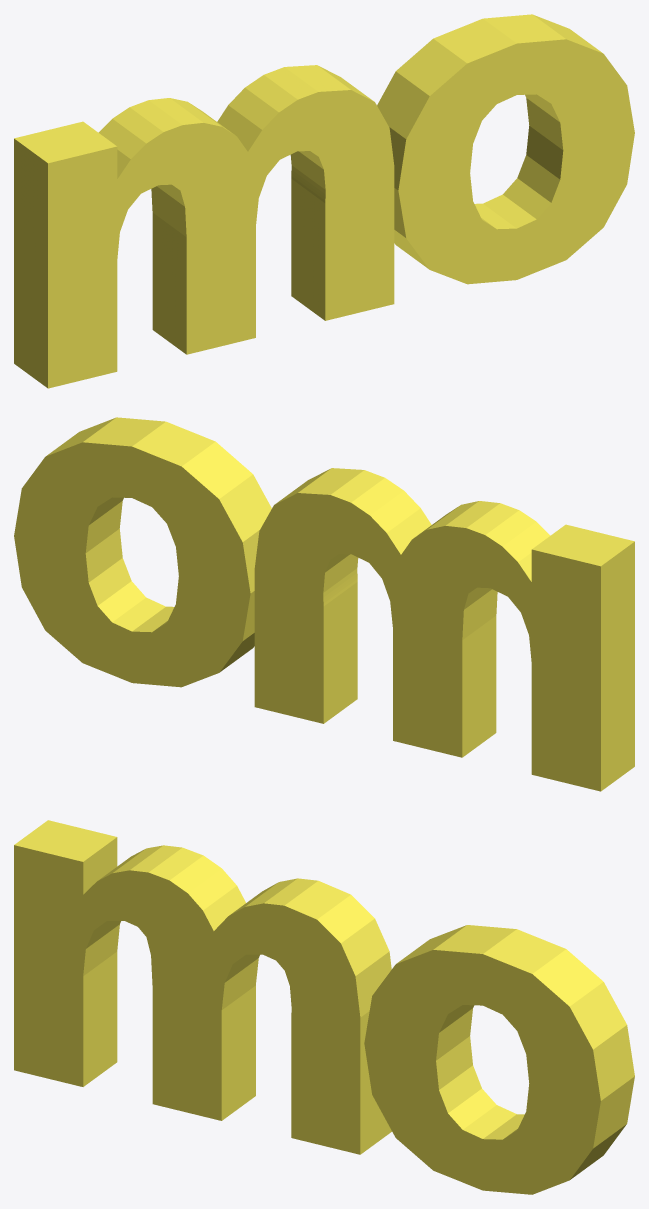
File: suku_kecil_mo.glb
3 renders of one model, top to bottom at view 1: azimuth 30°, elevation 25°; view 2: azimuth 150°, elevation 25°; view 3: azimuth 330°, elevation 25°, orthographic.
Visible parts, largest first — view 1: geometry_0; view 2: geometry_0; view 3: geometry_0.
Boxes of the visible parts, x1,y1,x2,y2 form: geometry_0: (14, 14, 634, 388); geometry_0: (14, 417, 634, 791); geometry_0: (14, 820, 634, 1194).
Bounding box in the file's own units: 14.91 × 5.74 × 1.5.
